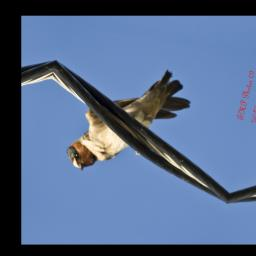Swallow: (61, 52, 199, 190)
